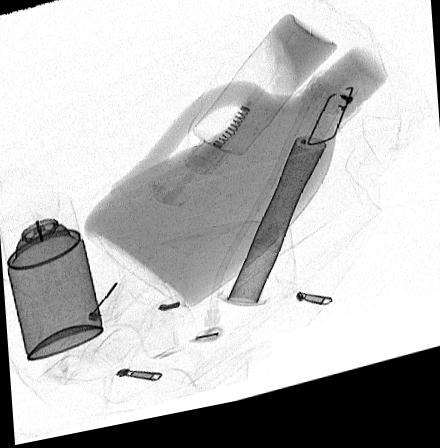Sprayer: (0, 193, 104, 361)
